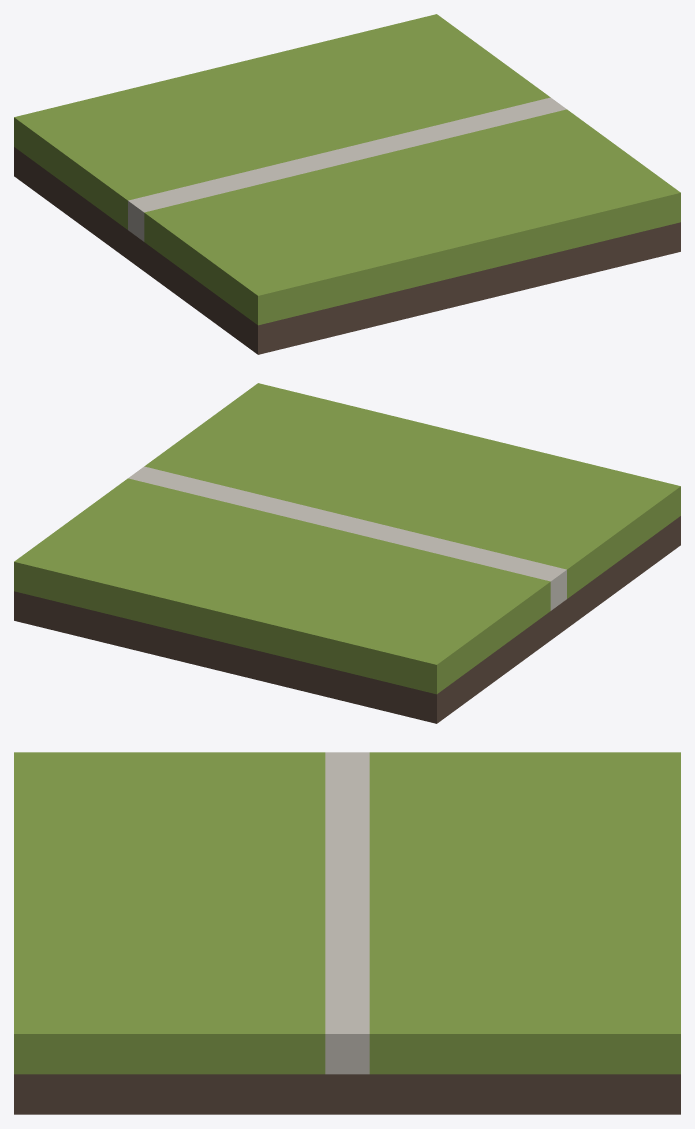
The model's file is grass-tile-sidewalk_01.fbx.
3 renders of one model, top to bottom at view 1: azimuth 30°, elevation 25°; view 2: azimuth 150°, elevation 25°; view 3: azimuth 270°, elevation 25°, orthographic. The views are drawn at different scales.
Visible parts, largest first — view 1: grass-tile-sidewalk_01; view 2: grass-tile-sidewalk_01; view 3: grass-tile-sidewalk_01.
Part boxes in pixels (bbox=[...]): grass-tile-sidewalk_01: bbox=[14, 14, 680, 354]; grass-tile-sidewalk_01: bbox=[14, 383, 680, 723]; grass-tile-sidewalk_01: bbox=[14, 752, 680, 1114].
Size of the model in its own units: 3000 by 400 by 3000.
